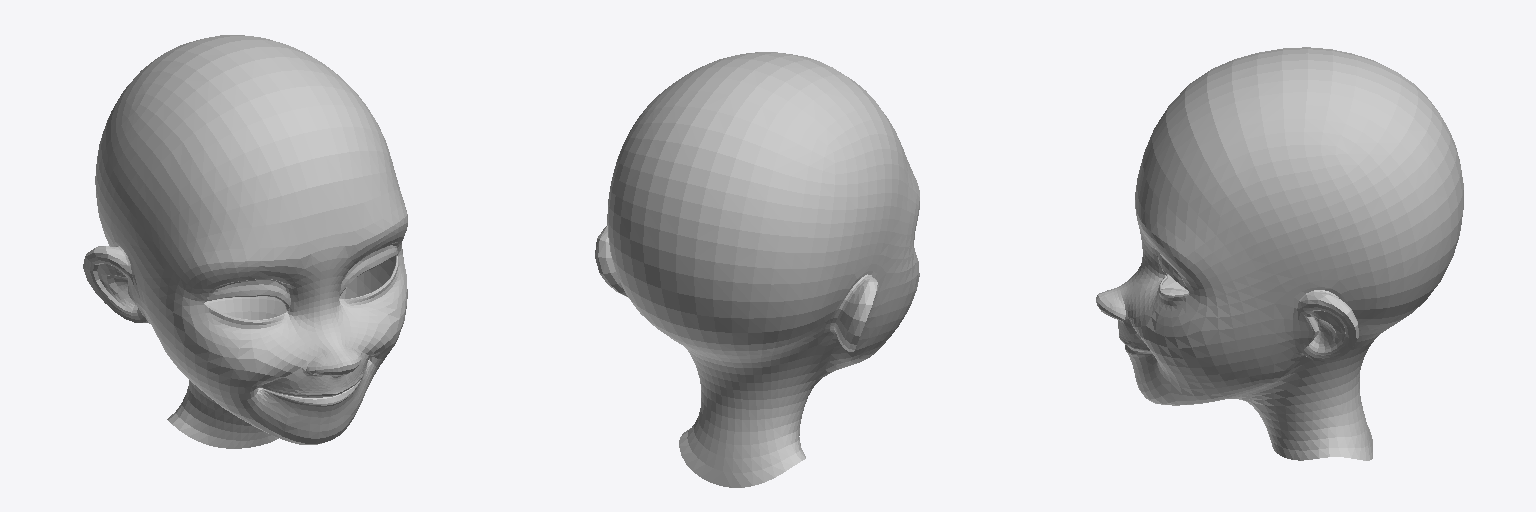
The model's file is pos3.obj.
The picture shows the model from 3 angles: view 1: azimuth 30°, elevation 25°; view 2: azimuth 150°, elevation 25°; view 3: azimuth 270°, elevation 25°; orthographic projection.
Parts seen in each view (by area): view 1: Mesh; view 2: Mesh; view 3: Mesh.
Part boxes in pixels (x1,y1,x2,y2): Mesh: (83,35,407,448); Mesh: (595,52,919,487); Mesh: (1096,47,1463,460).
Size of the model in its own units: 23.75 by 32.31 by 27.53.